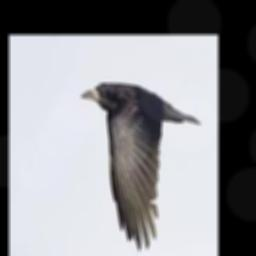Crow: (80, 82, 200, 249)
